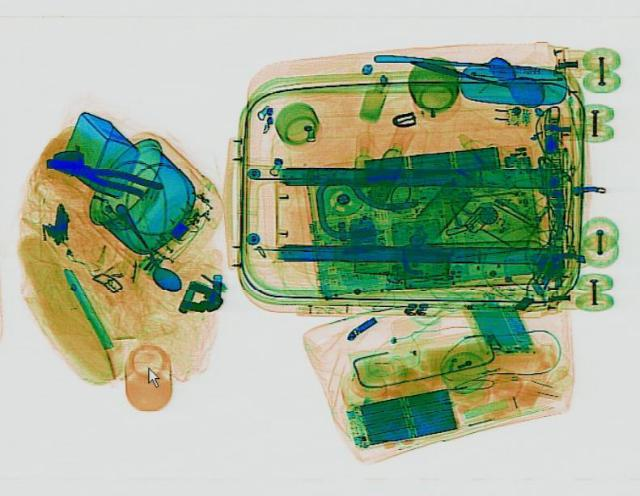Pliers: (42, 150, 165, 200)
